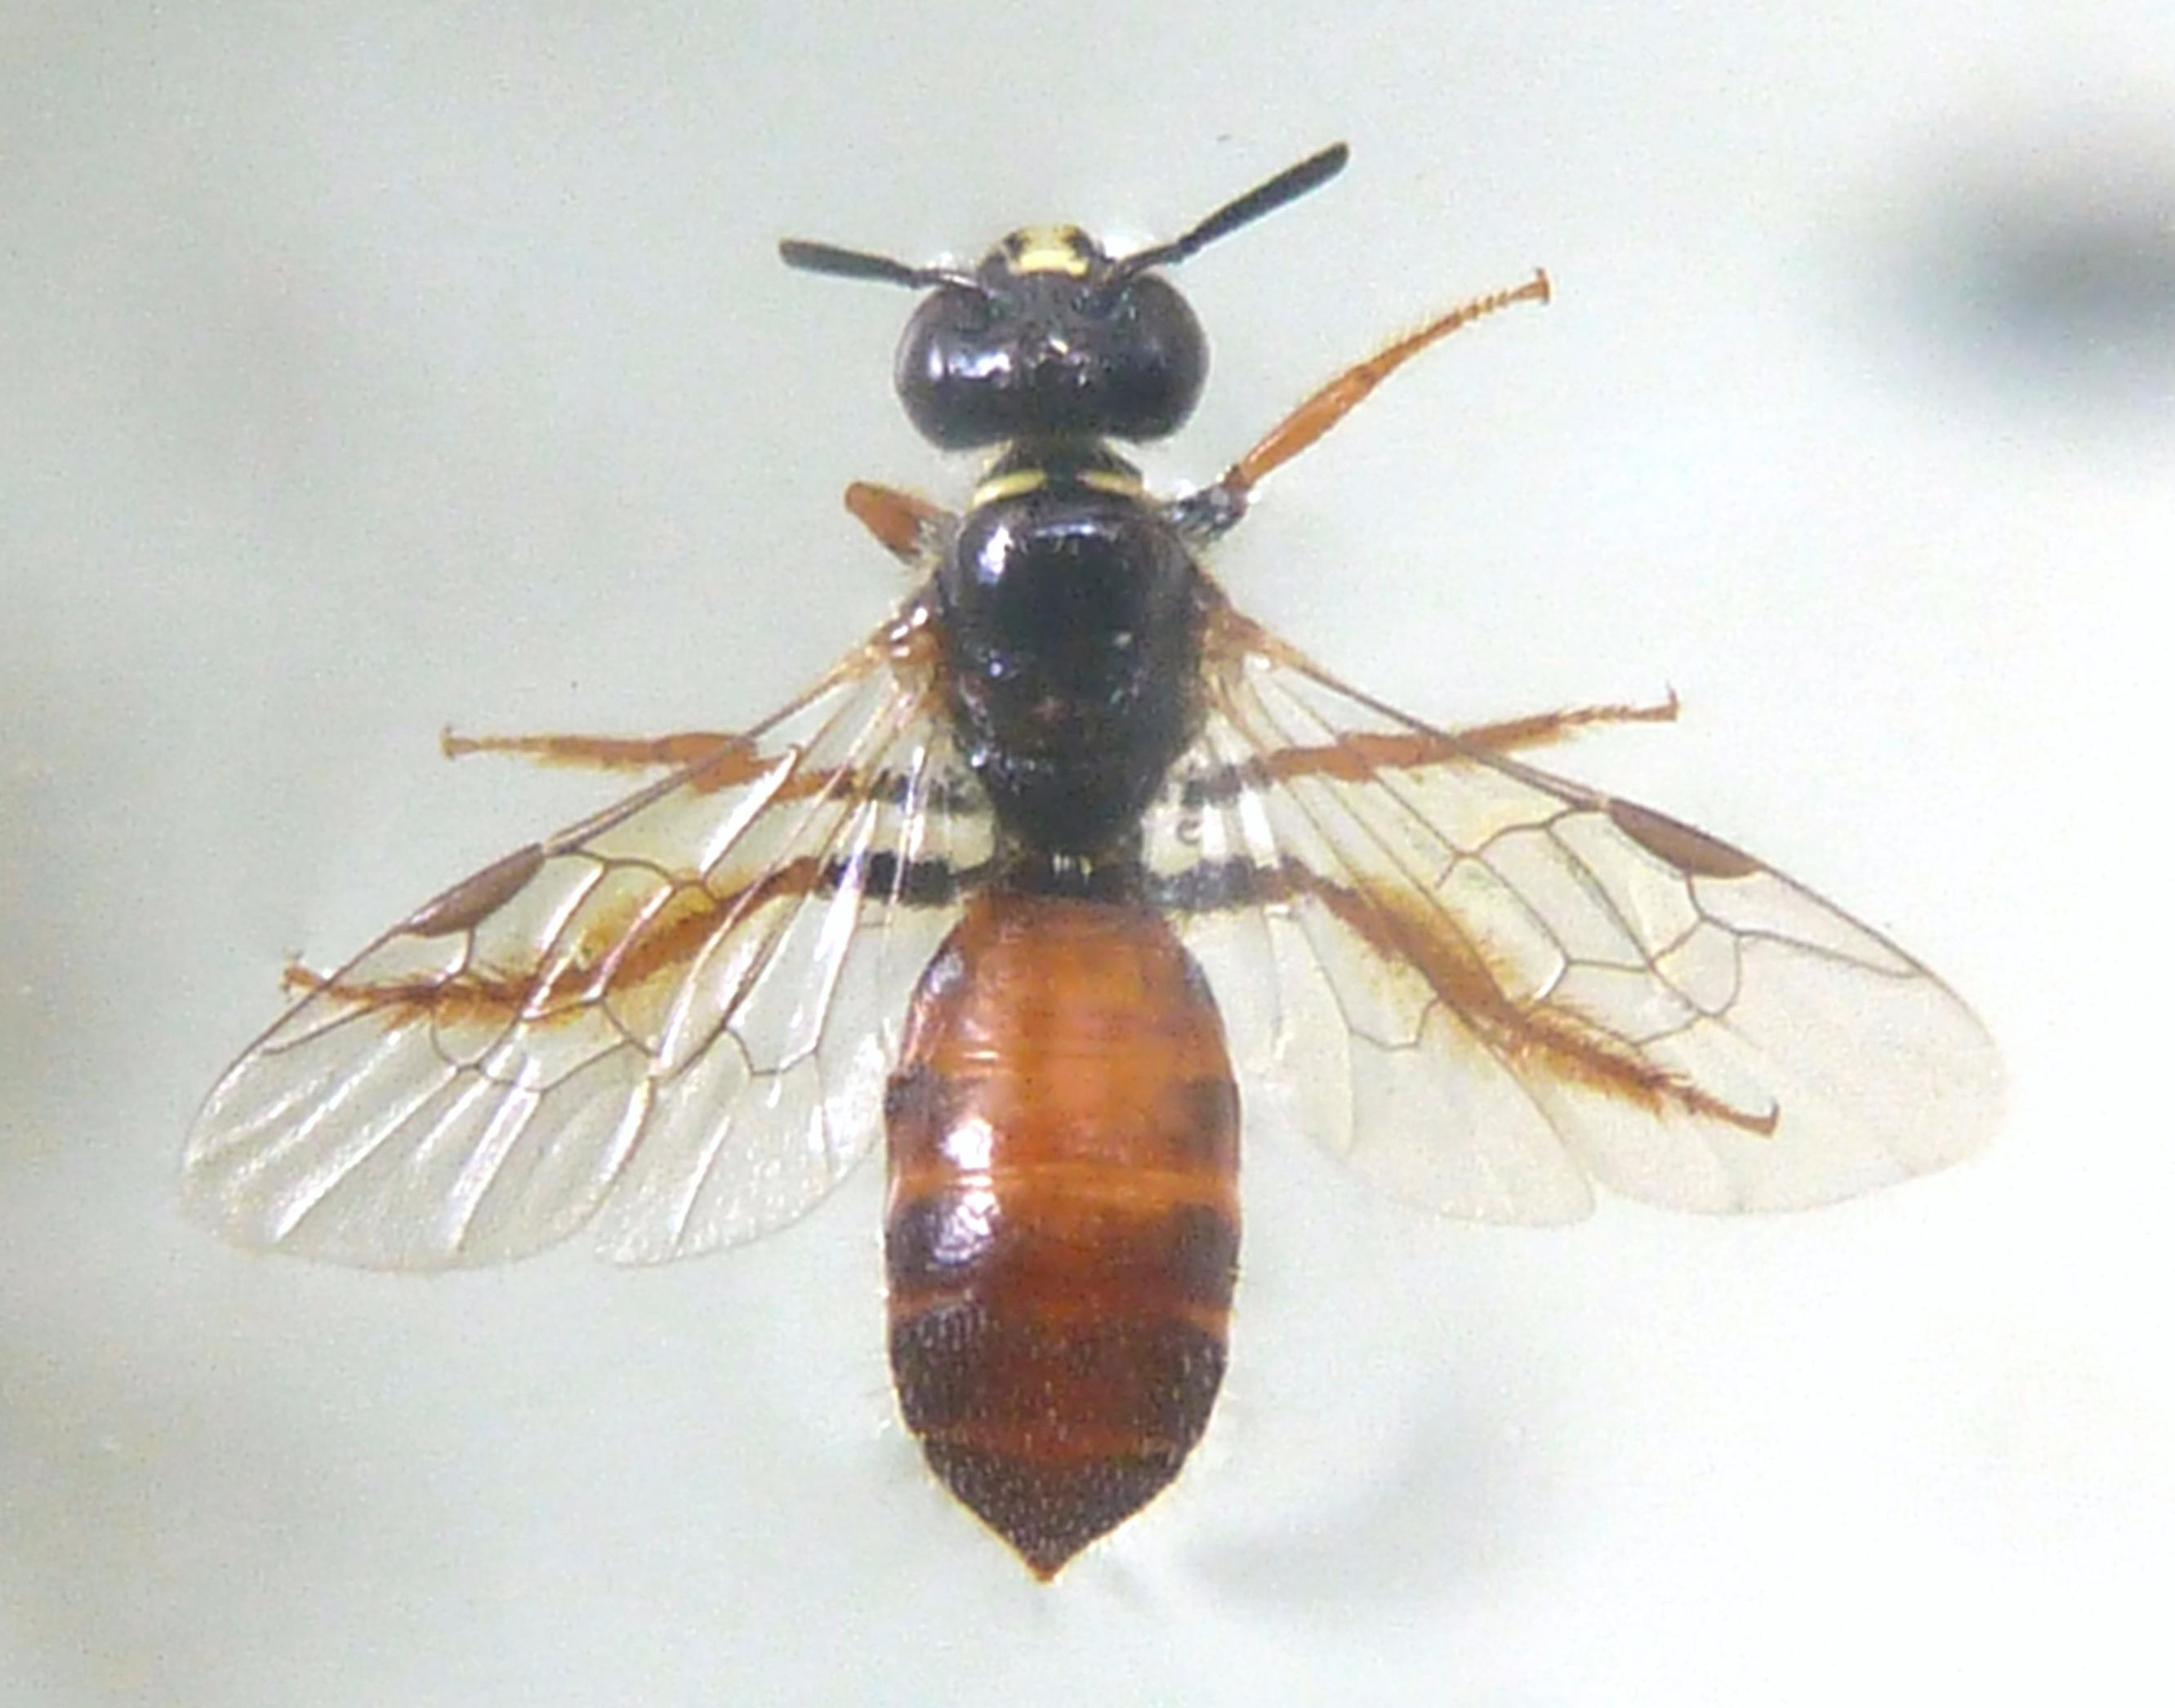Allodapula: (189, 104, 2069, 1606)
